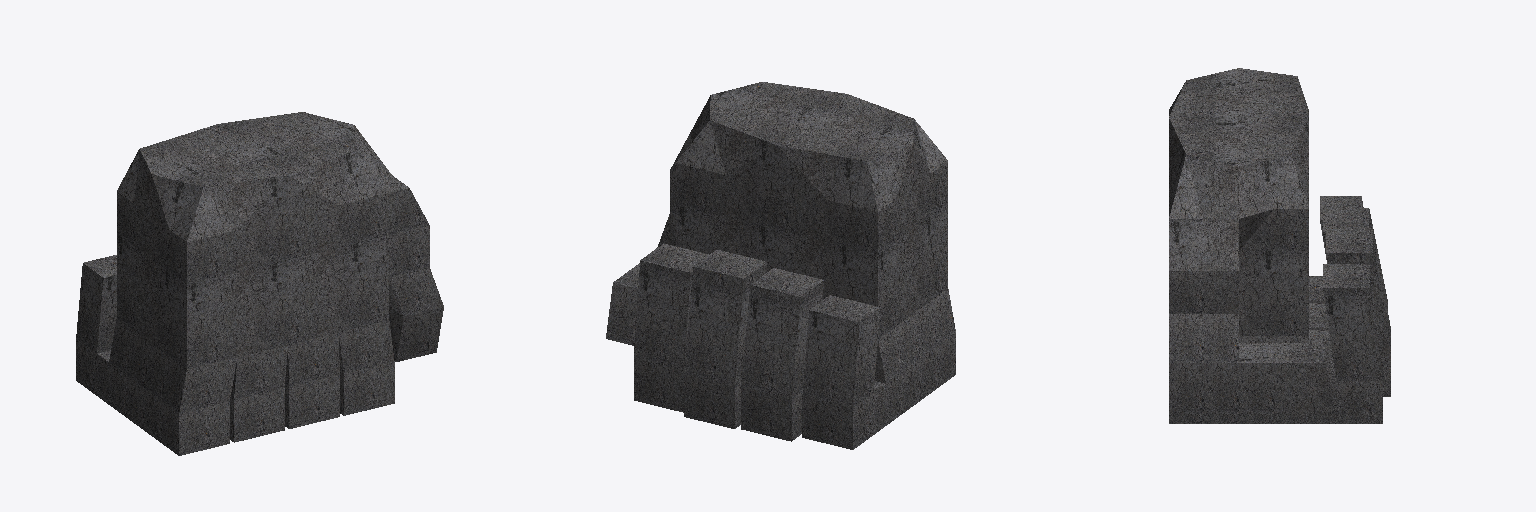
The picture shows the model from 3 angles: view 1: azimuth 30°, elevation 25°; view 2: azimuth 150°, elevation 25°; view 3: azimuth 270°, elevation 25°; orthographic projection.
Visible parts, largest first — view 1: RockFist; view 2: RockFist; view 3: RockFist.
Part boxes in pixels (x1,y1,x2,y2): RockFist: (76, 112, 443, 455); RockFist: (606, 82, 955, 449); RockFist: (1169, 68, 1390, 423).
Size of the model in its own units: 3.27 by 3 by 2.38.
Materials: 1 (1 with a texture image).